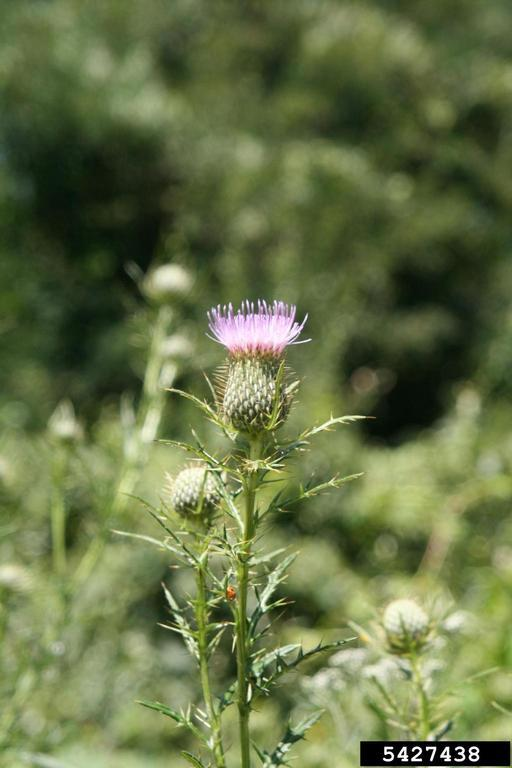thistle: (184, 296, 305, 435)
